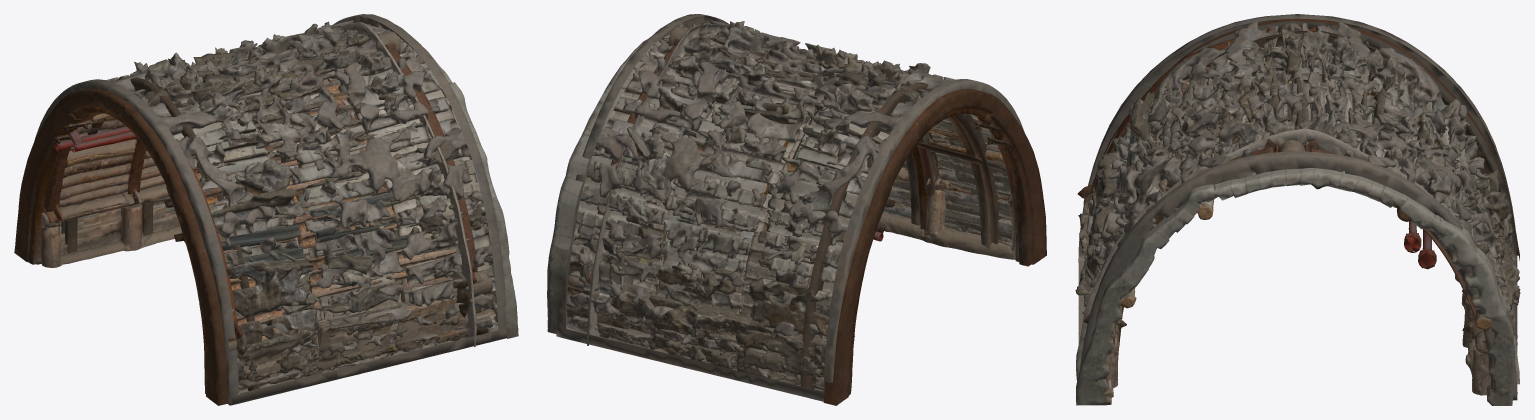
File: MineAlt_Boegen.04c17cfba1.glb
3 views of the same model, side by side, from view 1: azimuth 30°, elevation 25°; view 2: azimuth 150°, elevation 25°; view 3: azimuth 270°, elevation 25° (orthographic). The views are drawn at different scales.
Parts seen in each view (by area): view 1: bogen_d, bogen_a, bogen_b, bogen_c; view 2: bogen_d, bogen_a, bogen_c, bogen_b; view 3: bogen_d, bogen_a, bogen_c, bogen_b.
Boxes of the visible parts, x1=… form: bogen_d: x1=35, y1=14, x2=507, y2=405; bogen_a: x1=14, y1=26, x2=518, y2=405; bogen_b: x1=40, y1=31, x2=492, y2=387; bogen_c: x1=61, y1=21, x2=476, y2=390; bogen_d: x1=556, y1=14, x2=1024, y2=401; bogen_a: x1=547, y1=23, x2=1046, y2=405; bogen_c: x1=587, y1=21, x2=1002, y2=389; bogen_b: x1=568, y1=23, x2=1015, y2=369; bogen_d: x1=1078, y1=14, x2=1517, y2=400; bogen_a: x1=1076, y1=18, x2=1519, y2=405; bogen_c: x1=1076, y1=28, x2=1519, y2=384; bogen_b: x1=1075, y1=23, x2=1520, y2=395.
Size of the model in its own units: 4.9 by 3.77 by 5.96.
4 materials, 4 textured.
